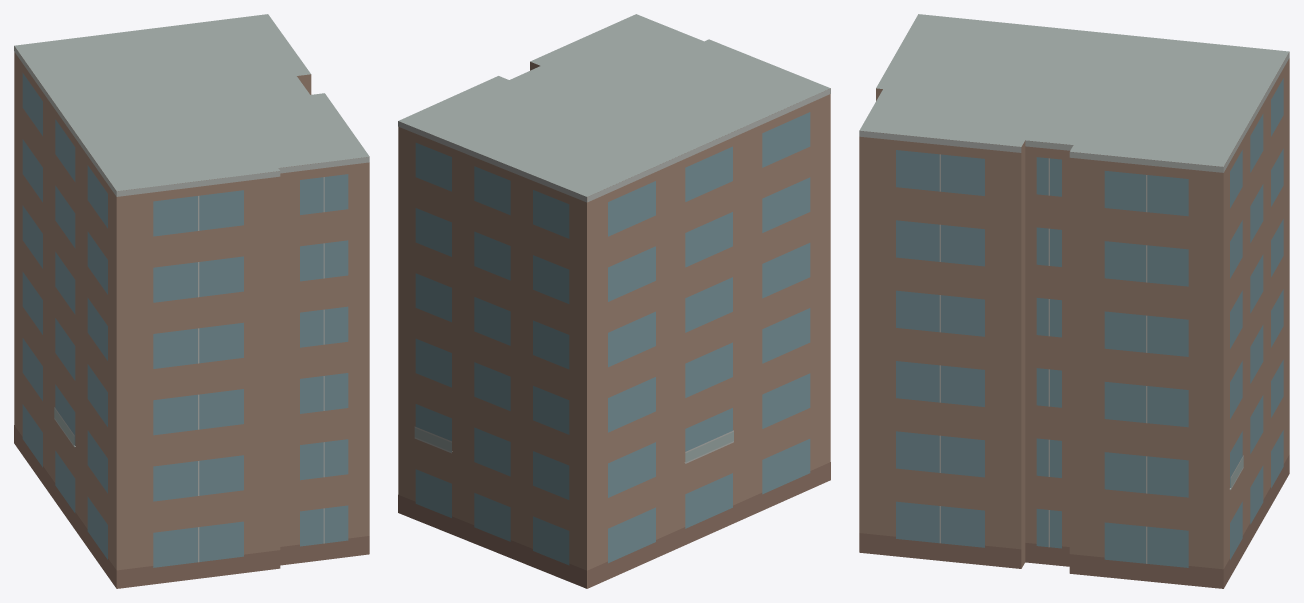
Rendered from survey-upis-32901526.glb.
3 views of the same model, side by side, from view 1: azimuth 30°, elevation 25°; view 2: azimuth 150°, elevation 25°; view 3: azimuth 270°, elevation 25° (orthographic). The views are drawn at different scales.
Parts seen in each view (by area): view 1: survey-upis-32901526.tmp; view 2: survey-upis-32901526.tmp; view 3: survey-upis-32901526.tmp.
Part boxes in pixels (x1,y1,x2,y2): survey-upis-32901526.tmp: (14, 14, 369, 588); survey-upis-32901526.tmp: (398, 14, 830, 588); survey-upis-32901526.tmp: (859, 14, 1289, 588).
Bounding box in the file's own units: 13.3 × 17.1 × 15.81.
